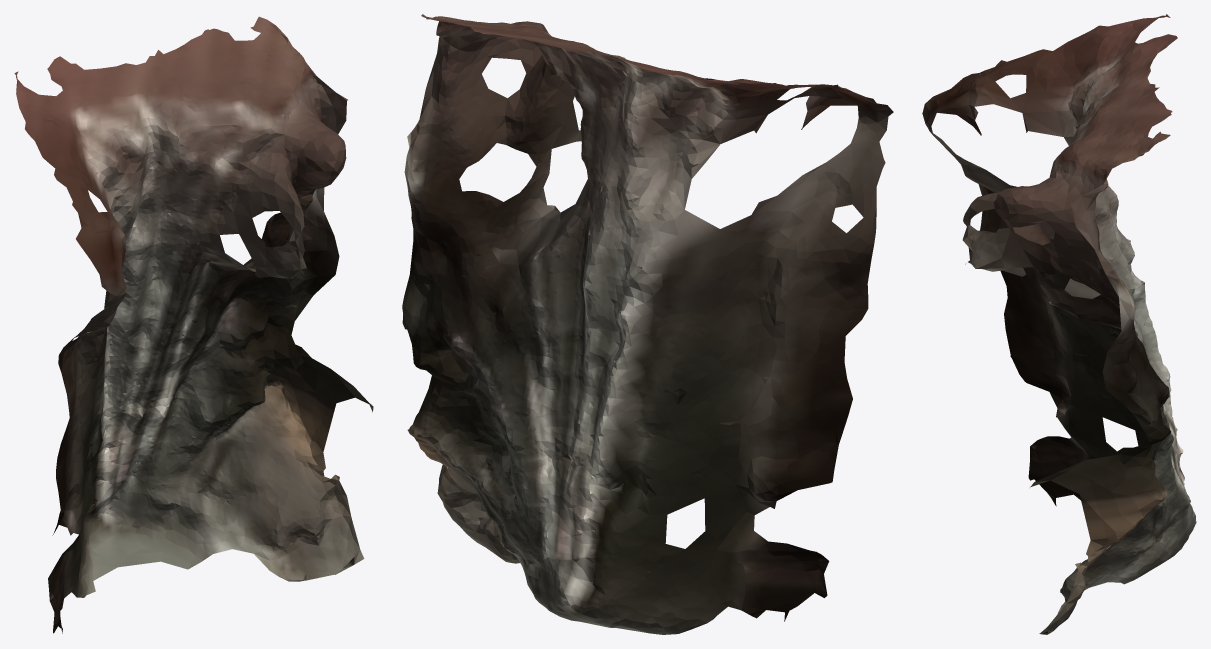
The model's file is texturedMesh.obj.
3 views of the same model, side by side, from view 1: azimuth 30°, elevation 25°; view 2: azimuth 150°, elevation 25°; view 3: azimuth 270°, elevation 25° (orthographic). The views are drawn at different scales.
Visible parts, largest first — view 1: TexturedMesh; view 2: TexturedMesh; view 3: TexturedMesh.
Part boxes in pixels (bbox=[...]): TexturedMesh: bbox=[14, 16, 373, 633]; TexturedMesh: bbox=[402, 14, 893, 634]; TexturedMesh: bbox=[922, 14, 1196, 634].
Size of the model in its own units: 2.58 by 3.76 by 1.86.
1 material, 1 textured.
